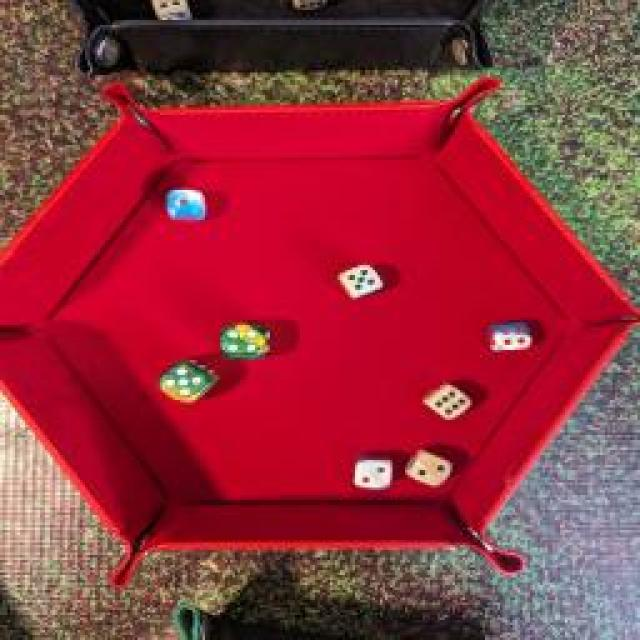dice_1: (163, 187, 215, 225)
dice_2: (400, 446, 452, 489), (344, 450, 396, 492)
dice_4: (217, 319, 275, 366), (481, 318, 539, 354), (152, 0, 188, 25)
dice_5: (152, 357, 226, 405), (335, 259, 385, 299)
dice_6: (416, 379, 474, 421)
